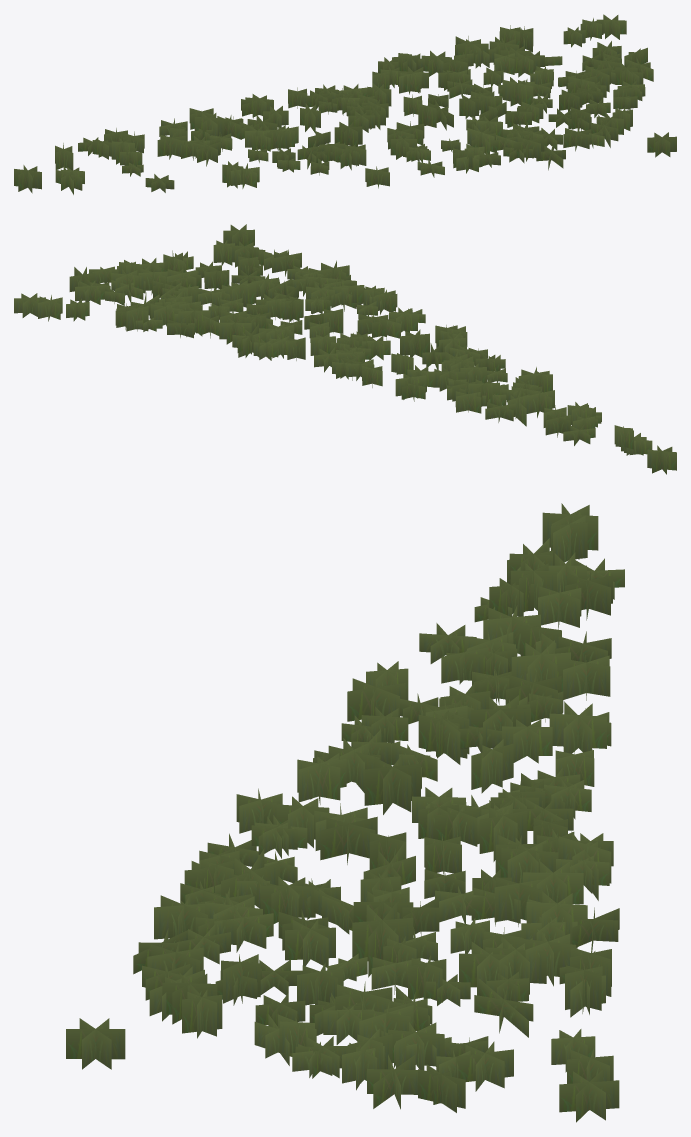
The model's file is TRB8-GRASS-CHUNK-8-3.glb.
3 renders of one model, top to bottom at view 1: azimuth 30°, elevation 25°; view 2: azimuth 150°, elevation 25°; view 3: azimuth 270°, elevation 25°, orthographic. The views are drawn at different scales.
Parts seen in each view (by area): view 1: TRB8-GRASS-CHUNK-8-3; view 2: TRB8-GRASS-CHUNK-8-3; view 3: TRB8-GRASS-CHUNK-8-3.
Part boxes in pixels (bbox=[...]): TRB8-GRASS-CHUNK-8-3: bbox=[14, 14, 676, 194]; TRB8-GRASS-CHUNK-8-3: bbox=[14, 224, 676, 474]; TRB8-GRASS-CHUNK-8-3: bbox=[66, 503, 624, 1122].
Size of the model in its own units: 13.68 by 1.05 by 5.41.
1 material, 1 textured.
